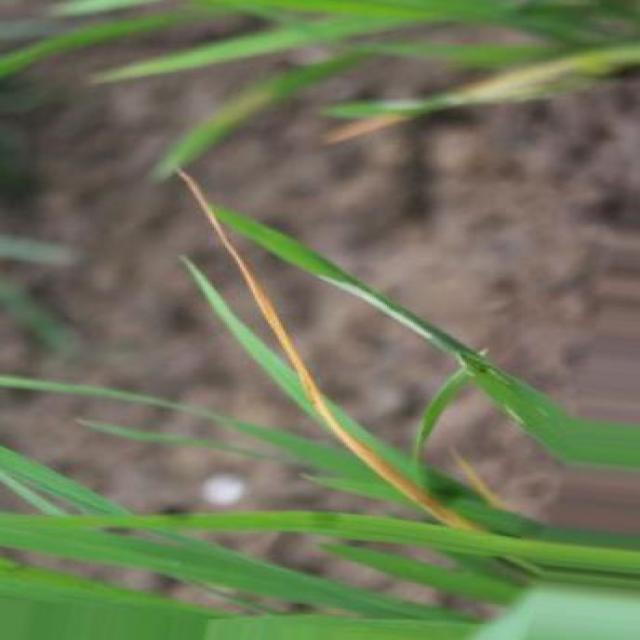Rice Tungro: (179, 170, 477, 531), (454, 449, 505, 509), (327, 114, 410, 144)
